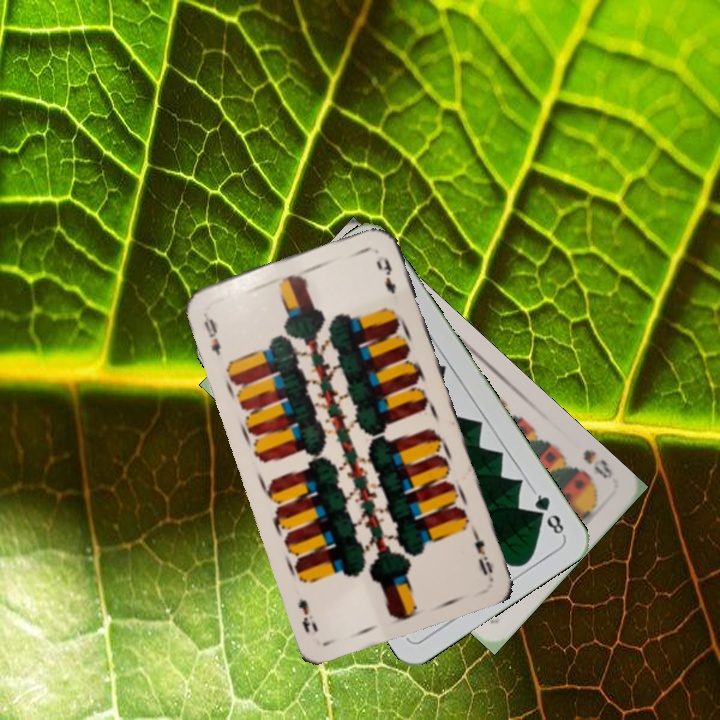E9: (467, 524, 496, 581), (198, 308, 223, 358)
G8: (529, 487, 567, 539)
S8: (579, 445, 616, 482)
